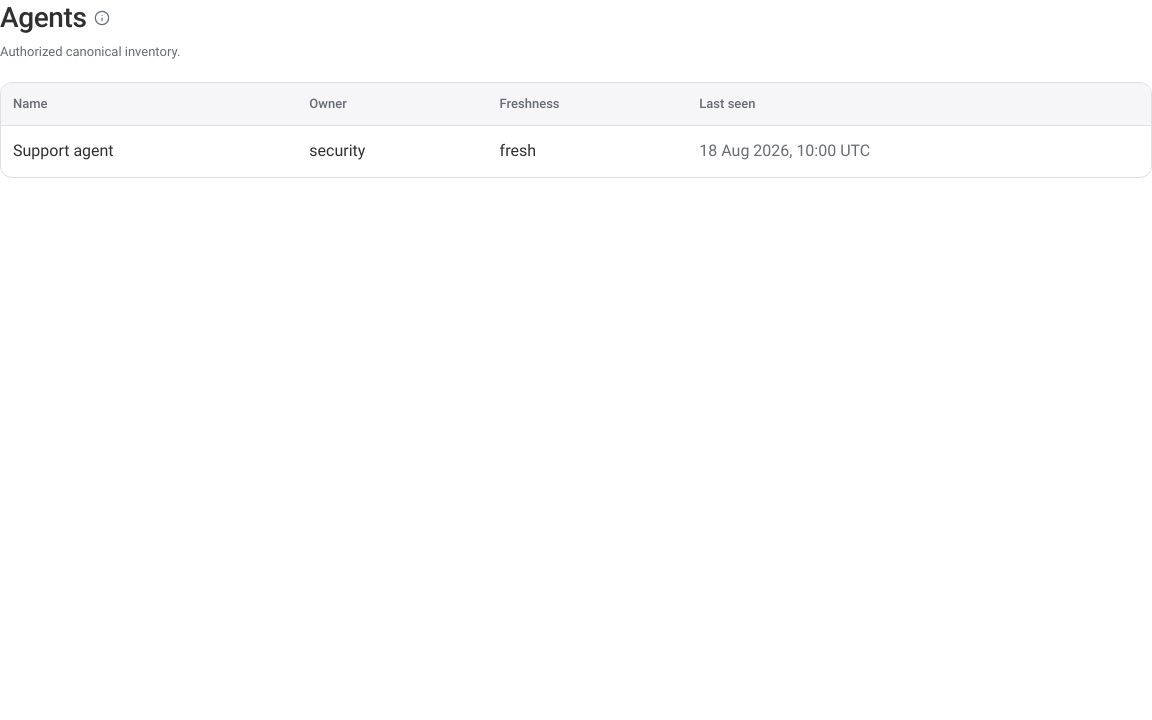
Scenario: connected core risk workflow › loads API inventory detail and reloads the authoritative result
Later steps or results of the test are not shown.
What coordinates should you click on to do the following:
click the button with aria-label "Open Support agent"
I would click on:
 (63, 151)
Its box is [13, 141, 114, 161].
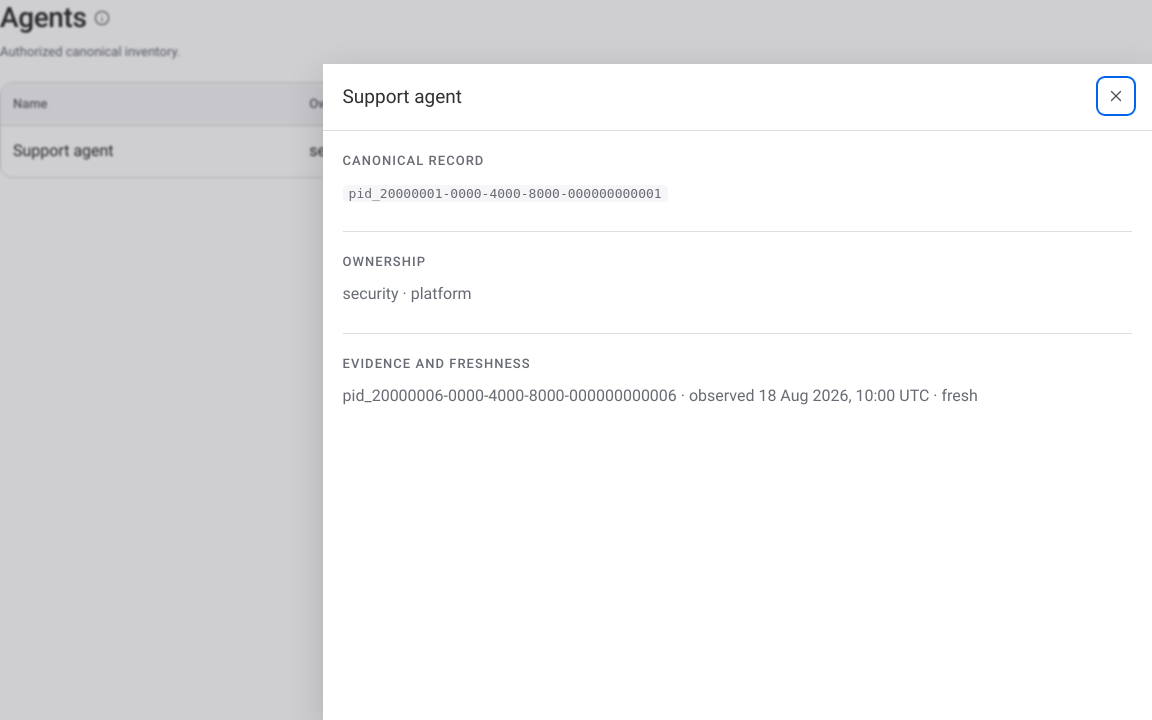
Result: the dialog "Support agent" shows "pid_20000006-0000-4000-8000-000000000006" at [343, 386, 677, 405]
